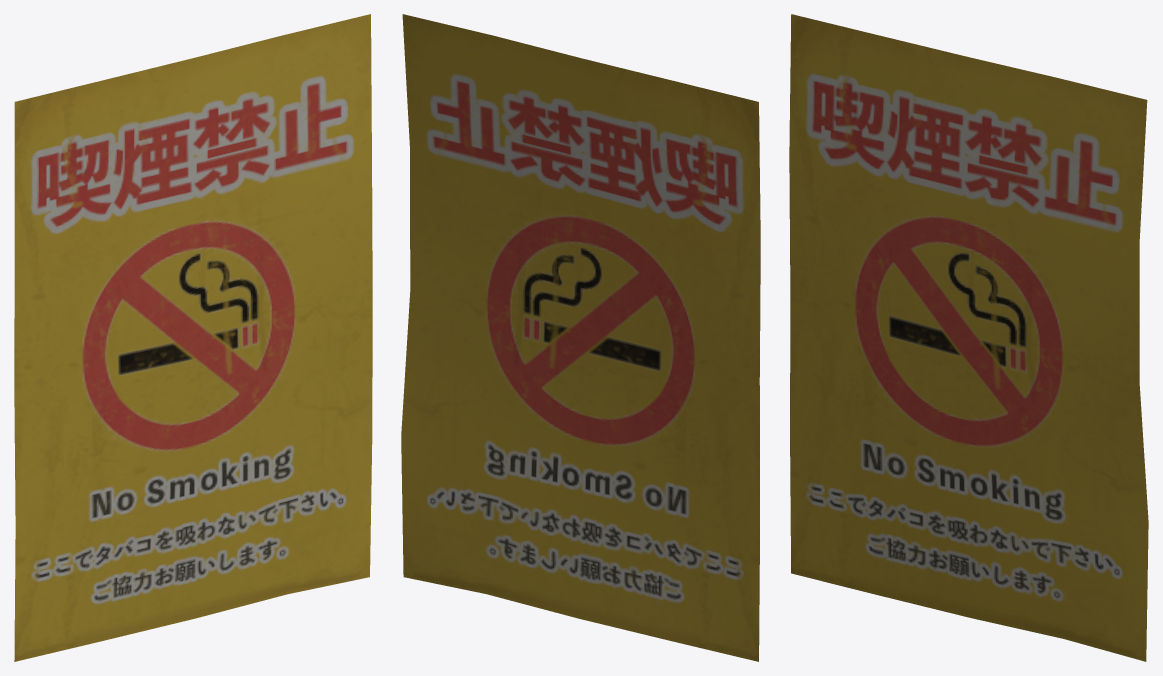
The model's file is posterF.fbx.
3 renders of one model, left to right at view 1: azimuth 30°, elevation 25°; view 2: azimuth 150°, elevation 25°; view 3: azimuth 330°, elevation 25°, orthographic.
Visible parts, largest first — view 1: posterF; view 2: posterF; view 3: posterF.
Boxes of the visible parts, box(x1,y1,x2,y2) form: posterF: box(14, 14, 372, 661); posterF: box(401, 14, 760, 661); posterF: box(789, 14, 1148, 661).
Size of the model in its own units: 20.15 by 30.25 by 0.4592.
Materials: 1 (1 with a texture image).
